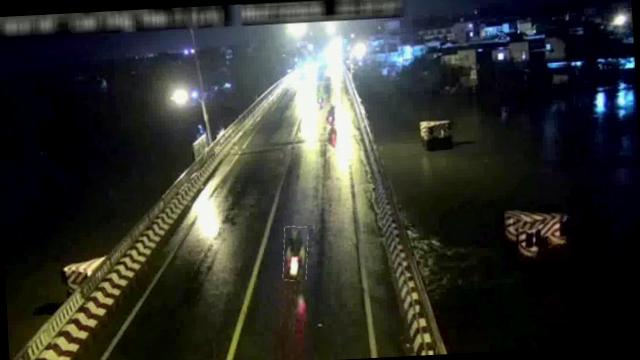Bike: (282, 226, 310, 281), (324, 102, 339, 124)
